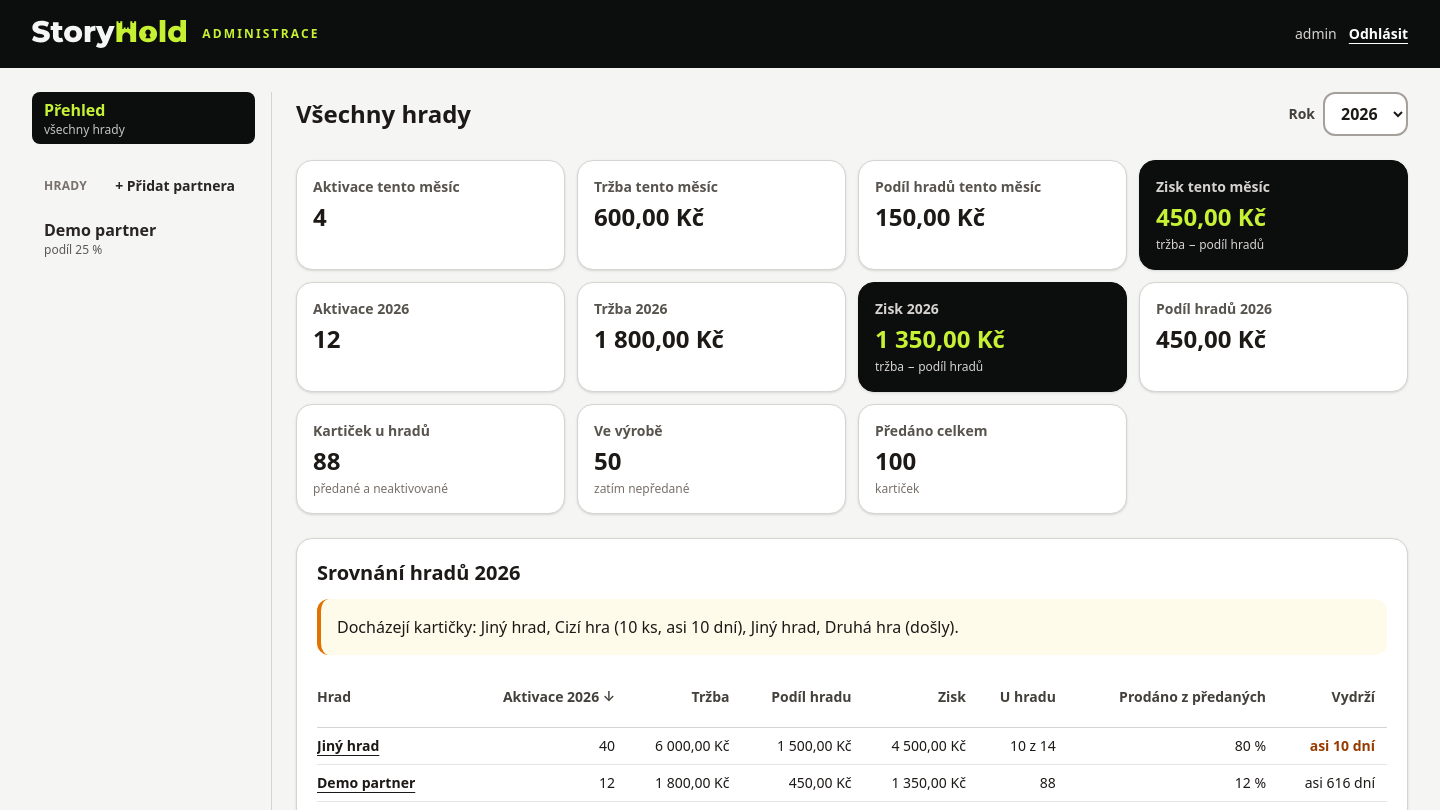
AdminPage — operator › closes the new partner dialog without saving
Click the button "+ Přidat partnera" at (175, 186), box left=107, top=164, right=243, bottom=208
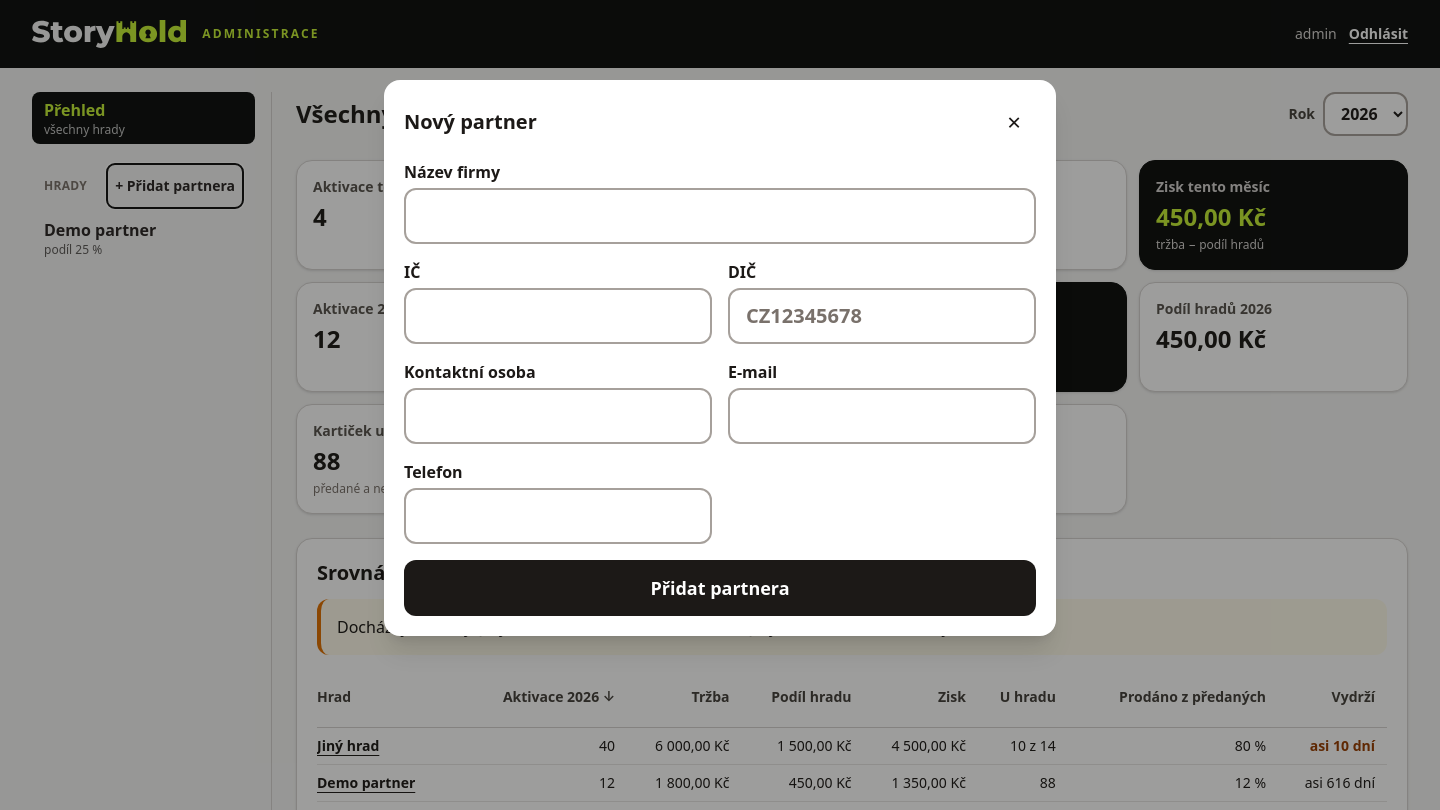
Press Escape
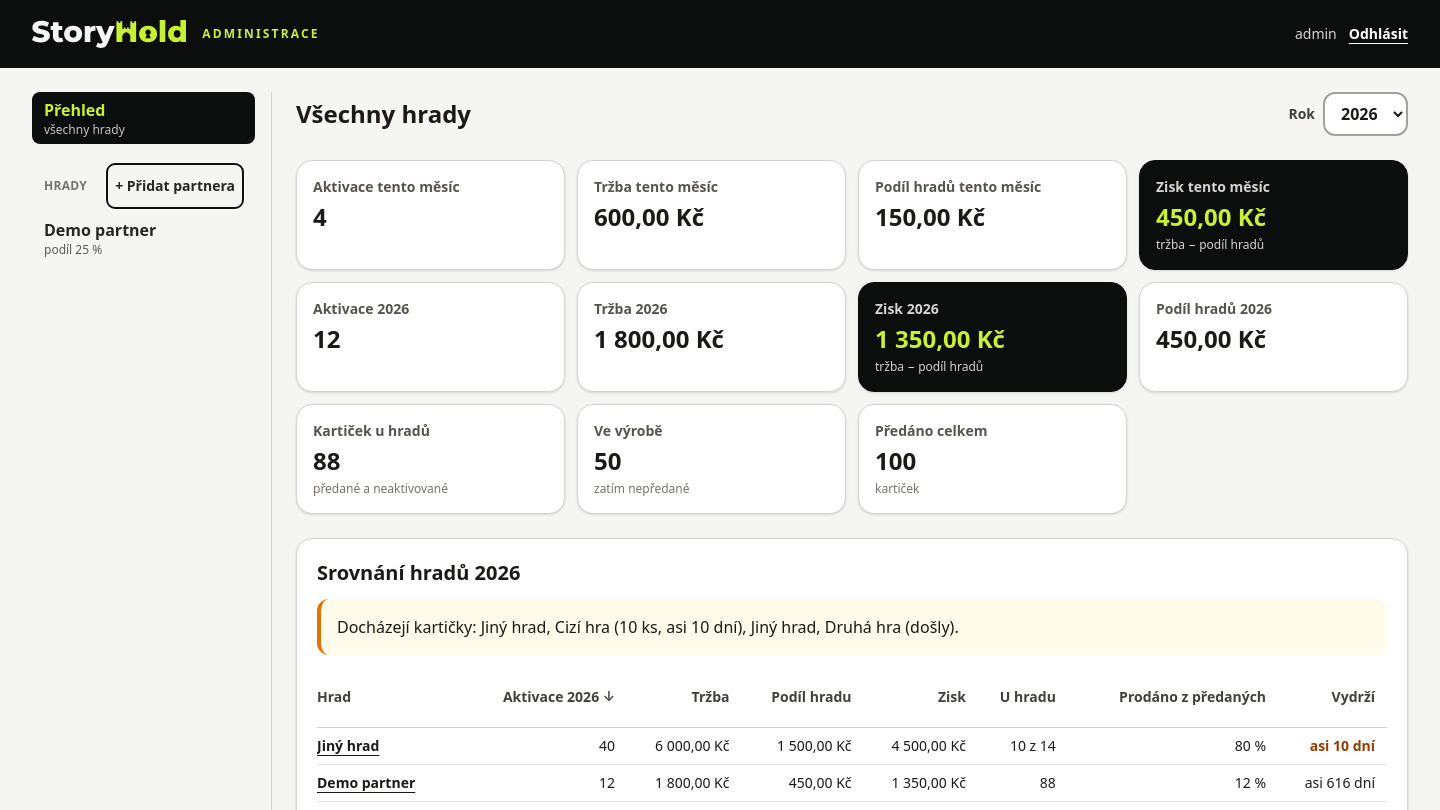
Expected: the dialog is gone
